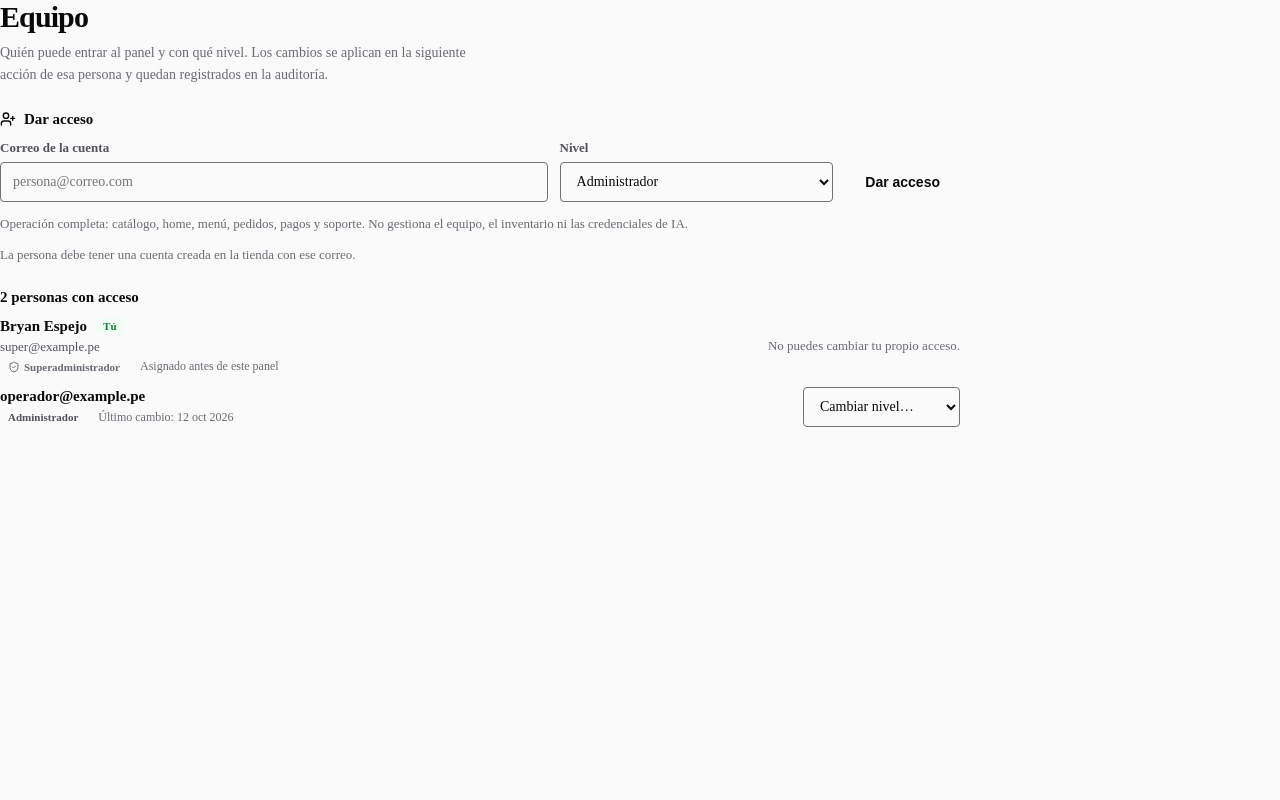
Test case: Team workspace › explains a revocation and shows the server's refusal
Select "Revocar acceso" in the dropdown with test id "team-change-operador@example.pe" at (882, 407), box [803,387,960,427]
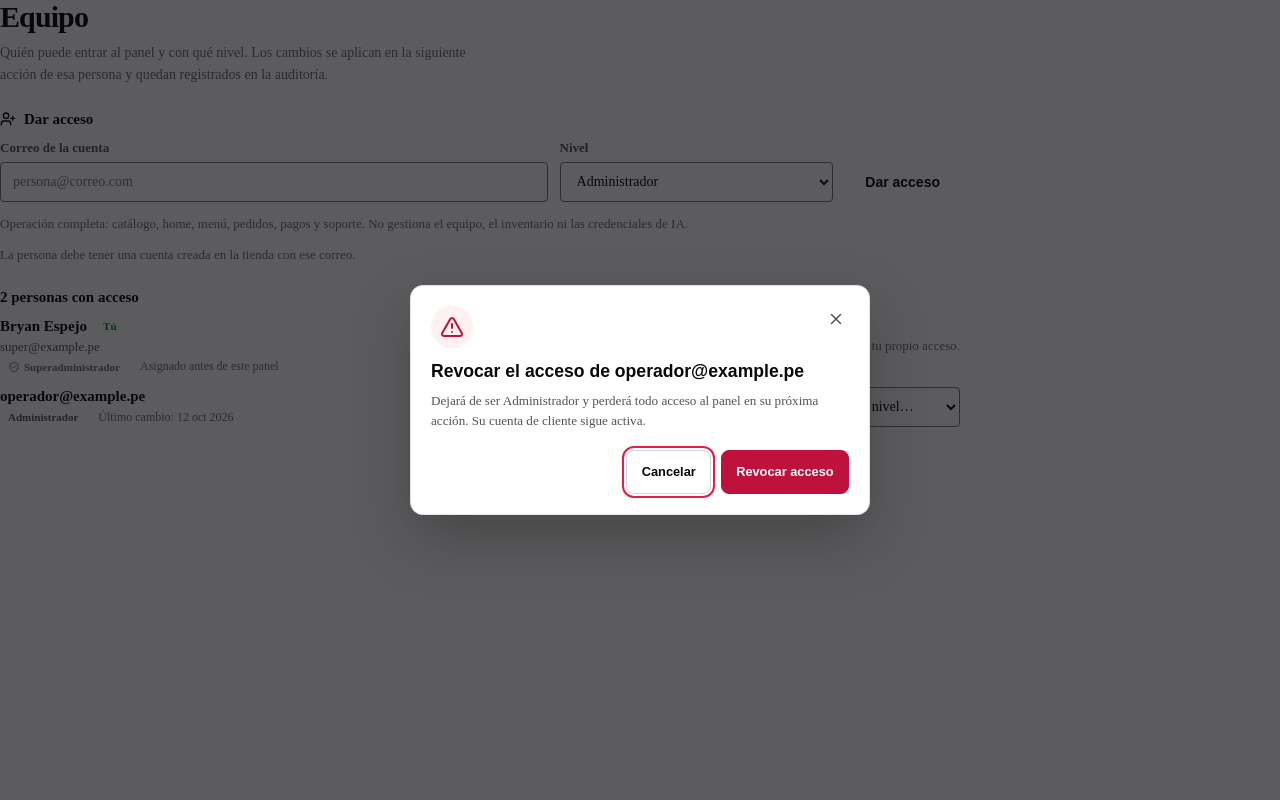
Result: the text "perderá todo acceso al panel" is shown at [431,393,818,428]
Click the button "Revocar acceso".
click(785, 472)  # box [721,450,849,494]
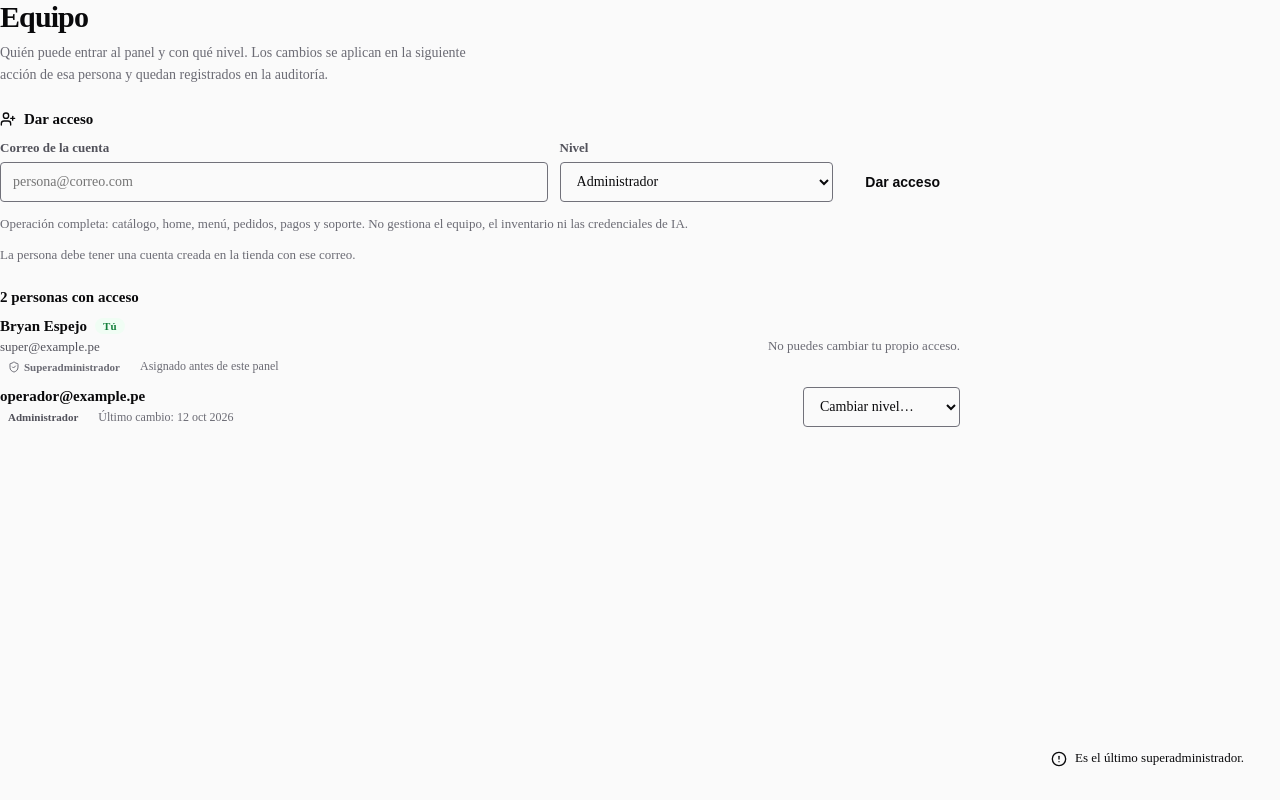
Result: the text "Es el último superadministrador." is shown at [1075,749,1244,768]
